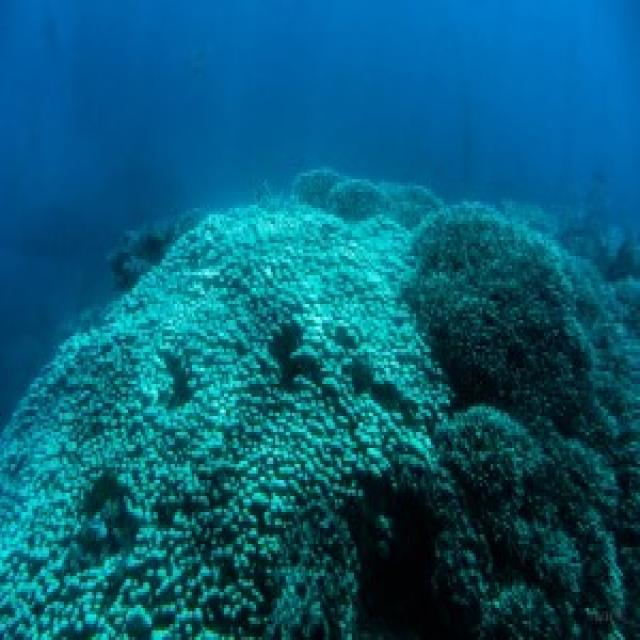Bleached: (1, 206, 449, 638)
Healthy: (408, 209, 620, 638)
